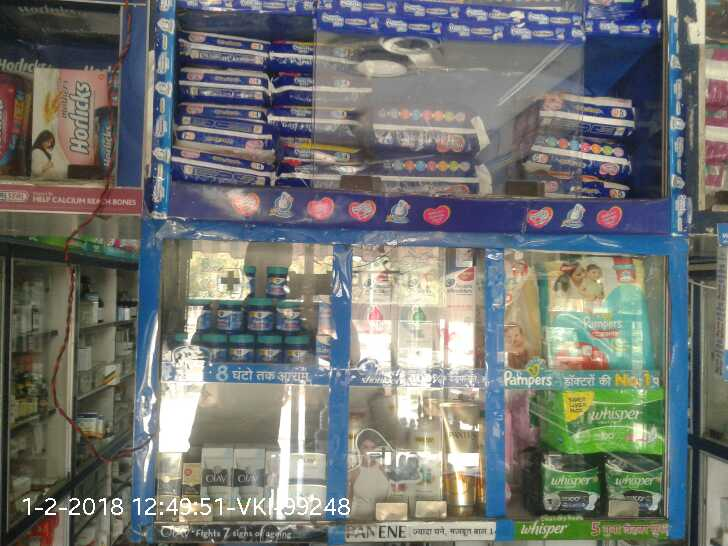vicks: (165, 254, 323, 370)
